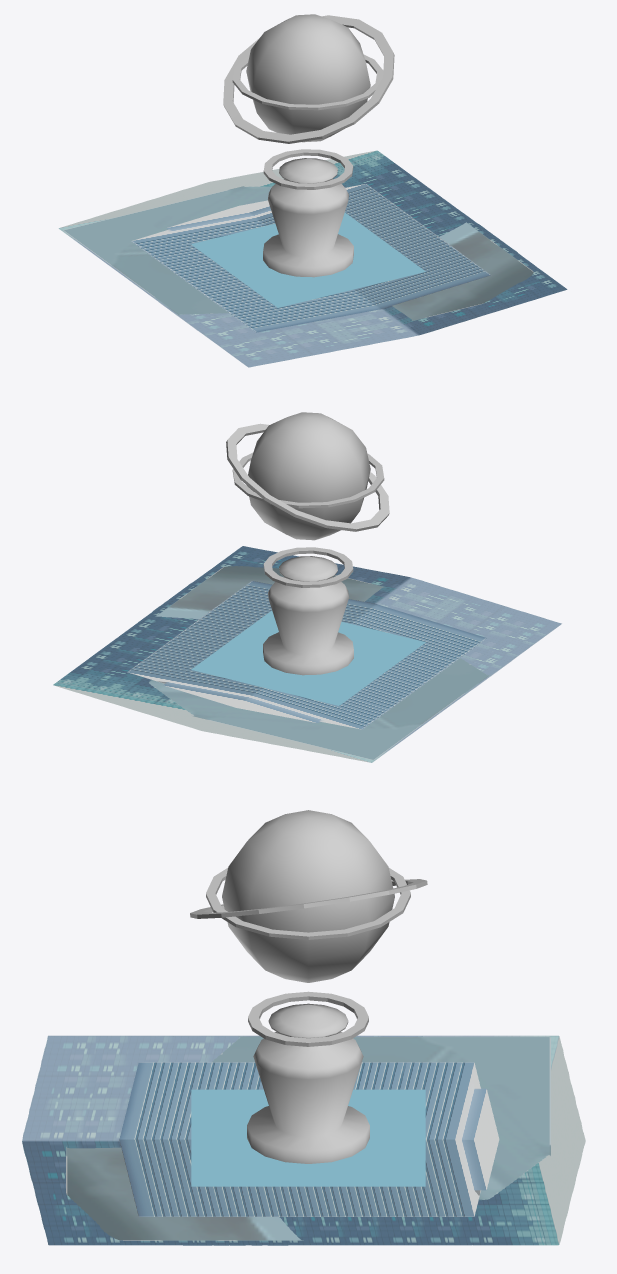
Rendered from Main_1006_obj_02.fbx.
3 views of the same model, one above another, from view 1: azimuth 30°, elevation 25°; view 2: azimuth 150°, elevation 25°; view 3: azimuth 270°, elevation 25° (orthographic). The views are drawn at different scales.
Visible parts, largest first — view 1: Main_1001_Tex_13.002, Main_1001_Tex_14, Main_1001_Tex_15, Sphere.001, Main_1001_Tex_16, Cylinder.001, Circle.001, Circle.003, Circle; view 2: Main_1001_Tex_13.002, Main_1001_Tex_14, Main_1001_Tex_15, Sphere.001, Main_1001_Tex_16, Cylinder.001, Circle.001, Circle.003, Circle; view 3: Main_1001_Tex_13.002, Main_1001_Tex_14, Main_1001_Tex_15, Sphere.001, Main_1001_Tex_16, Cylinder.001, Circle.003, Circle, Circle.001.
Part boxes in pixels (bbox=[...]): Main_1001_Tex_13.002: bbox=[58, 150, 567, 367]; Main_1001_Tex_14: bbox=[131, 184, 490, 332]; Main_1001_Tex_15: bbox=[63, 185, 533, 321]; Sphere.001: bbox=[246, 14, 370, 142]; Main_1001_Tex_16: bbox=[191, 212, 425, 307]; Cylinder.001: bbox=[263, 158, 353, 277]; Circle.001: bbox=[223, 15, 394, 143]; Circle.003: bbox=[263, 149, 353, 189]; Circle: bbox=[232, 54, 383, 110]; Main_1001_Tex_13.002: bbox=[53, 546, 561, 762]; Main_1001_Tex_14: bbox=[127, 581, 486, 729]; Main_1001_Tex_15: bbox=[149, 566, 514, 759]; Sphere.001: bbox=[246, 412, 370, 540]; Main_1001_Tex_16: bbox=[191, 610, 425, 705]; Cylinder.001: bbox=[263, 556, 353, 675]; Circle.001: bbox=[226, 423, 389, 531]; Circle.003: bbox=[263, 547, 353, 587]; Circle: bbox=[232, 452, 384, 508]; Main_1001_Tex_13.002: bbox=[22, 1035, 585, 1245]; Main_1001_Tex_14: bbox=[119, 1062, 499, 1216]; Main_1001_Tex_15: bbox=[66, 1036, 550, 1240]; Sphere.001: bbox=[222, 810, 394, 982]; Main_1001_Tex_16: bbox=[191, 1089, 425, 1186]; Cylinder.001: bbox=[247, 1003, 369, 1163]; Circle.003: bbox=[248, 991, 368, 1046]; Circle: bbox=[206, 868, 410, 939]; Circle.001: bbox=[190, 879, 427, 918].
Size of the model in its own units: 97.43 by 63.36 by 100.
